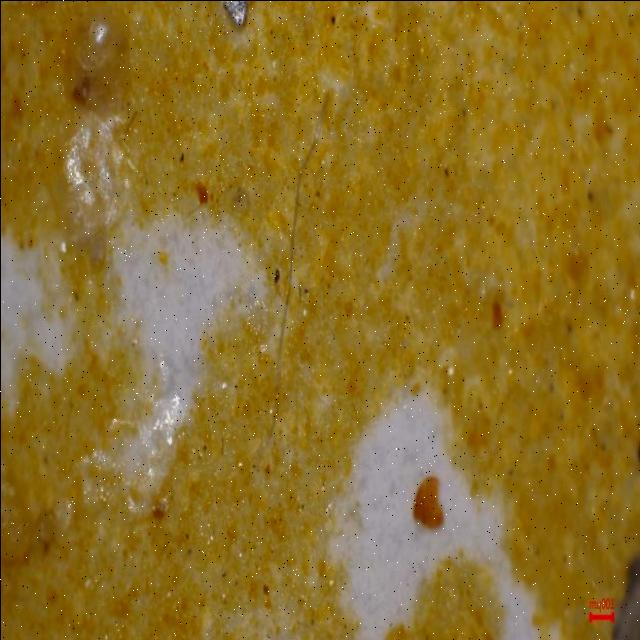Fibre: (260, 132, 318, 470)
